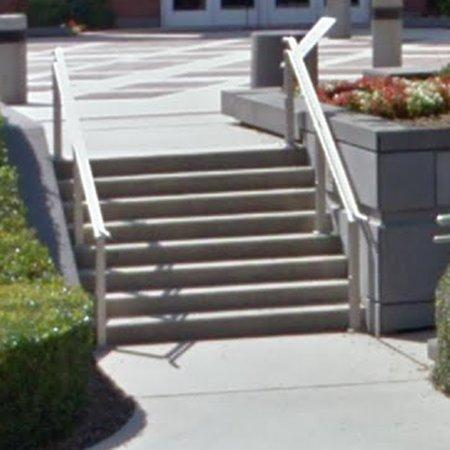stairs: (91, 149, 348, 345)
